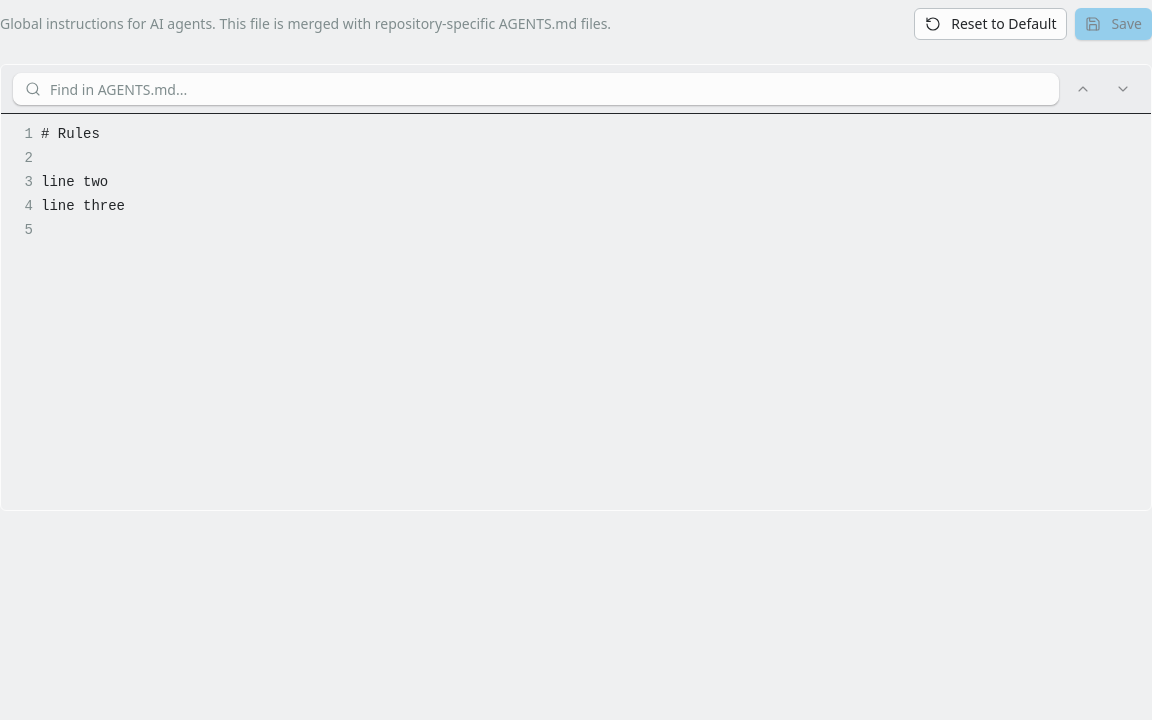
Test: AgentsMdEditor › finds matches in the content
Expected: the text box named "AGENTS.md content" is shown, [1, 114, 1151, 510]
Type "line" into the field named "Find in content" at (536, 89), box [13, 73, 1059, 105]
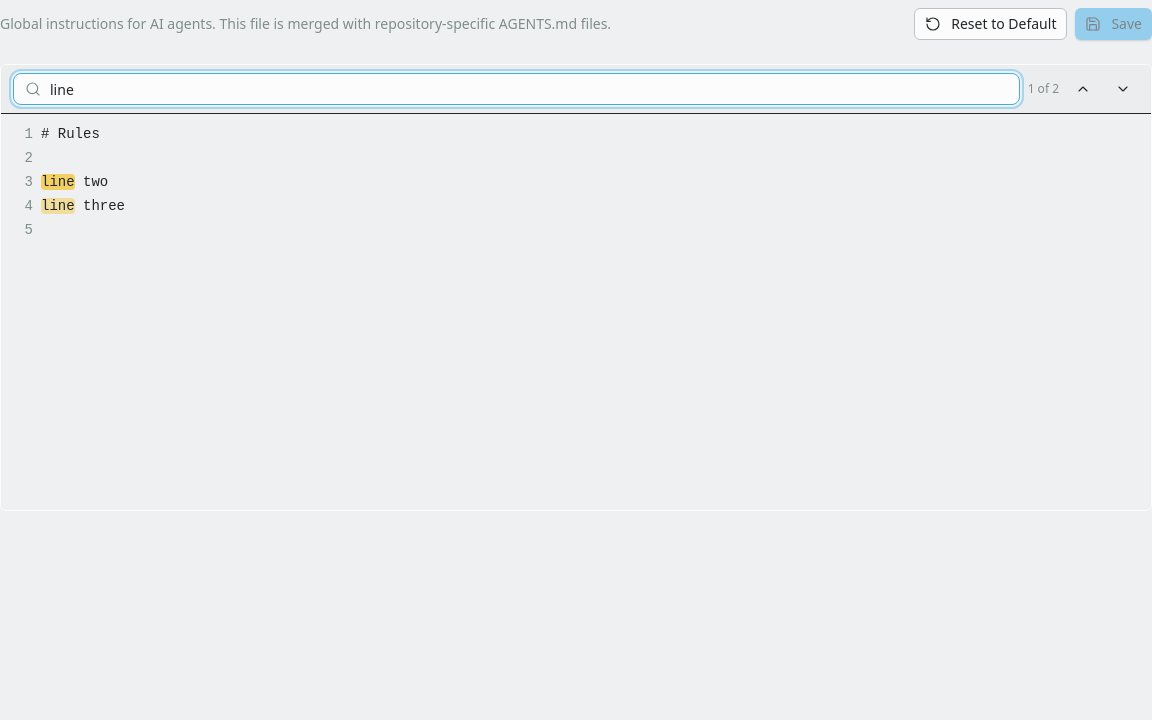
Now the text with test id "find-match-count" reads "1 of 2", box [1028, 80, 1059, 97]
